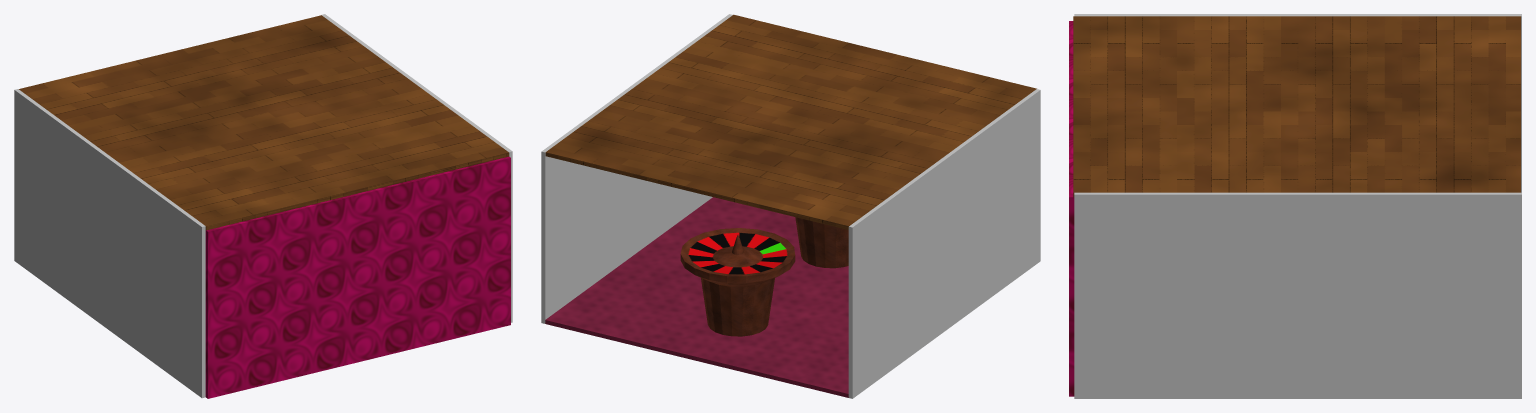
The model's file is Casino1_3.fbx.
3 views of the same model, side by side, from view 1: azimuth 30°, elevation 25°; view 2: azimuth 150°, elevation 25°; view 3: azimuth 270°, elevation 25° (orthographic). The views are drawn at different scales.
Visible parts, largest first — view 1: Ceiling.008, BackWallCasi, SideWallCasi, SideWall1.044; view 2: Ceiling.008, SideWallCasi, GroundCasi, SideWall1.044, RouletteTable, RouletteTable.001; view 3: SideWall1.044, Ceiling.008, BackWallCasi, SideWallCasi.
Part boxes in pixels (x1,y1,x2,y2): Ceiling.008: [19, 15, 509, 230]; BackWallCasi: [205, 156, 510, 398]; SideWallCasi: [14, 89, 205, 398]; SideWall1.044: [321, 14, 512, 322]; Ceiling.008: [545, 14, 1036, 229]; SideWallCasi: [848, 89, 1040, 398]; GroundCasi: [545, 197, 848, 397]; SideWall1.044: [541, 14, 732, 323]; RouletteTable: [680, 228, 795, 336]; RouletteTable.001: [795, 217, 848, 268]; SideWall1.044: [1074, 192, 1521, 398]; Ceiling.008: [1073, 16, 1520, 197]; BackWallCasi: [1069, 21, 1074, 396]; SideWallCasi: [1074, 14, 1521, 192].
Bounding box in the file's own units: 517 × 272 × 547.
